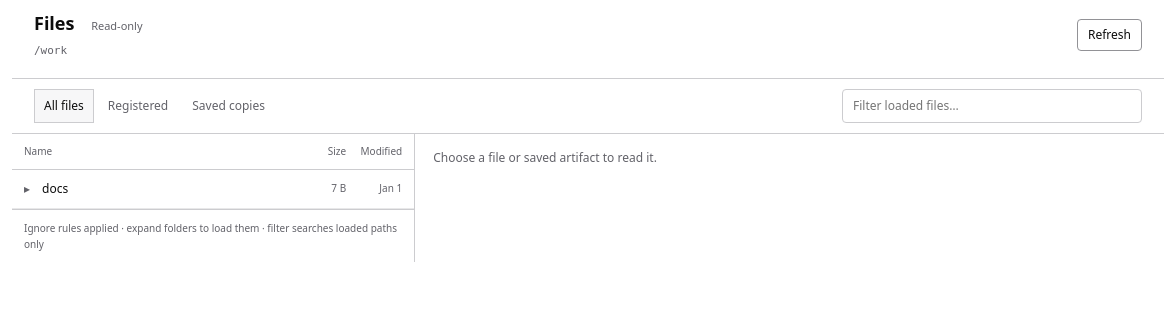
Test: loads once under StrictMode and only expands requested directories
Click the button "▸ docs 7 B Jan 1" at {"x": 27, "y": 188}, box [12,170,414,208]
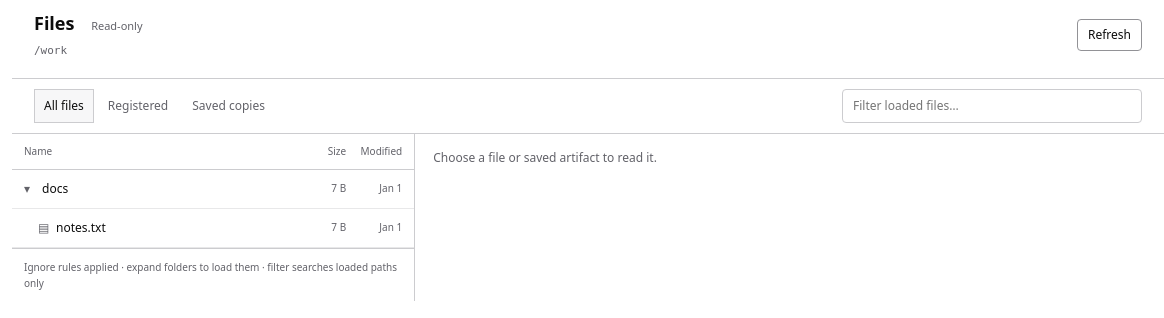
expect the button "▤ notes.txt 7 B Jan 1" is shown: met, box [12,208,414,248]
